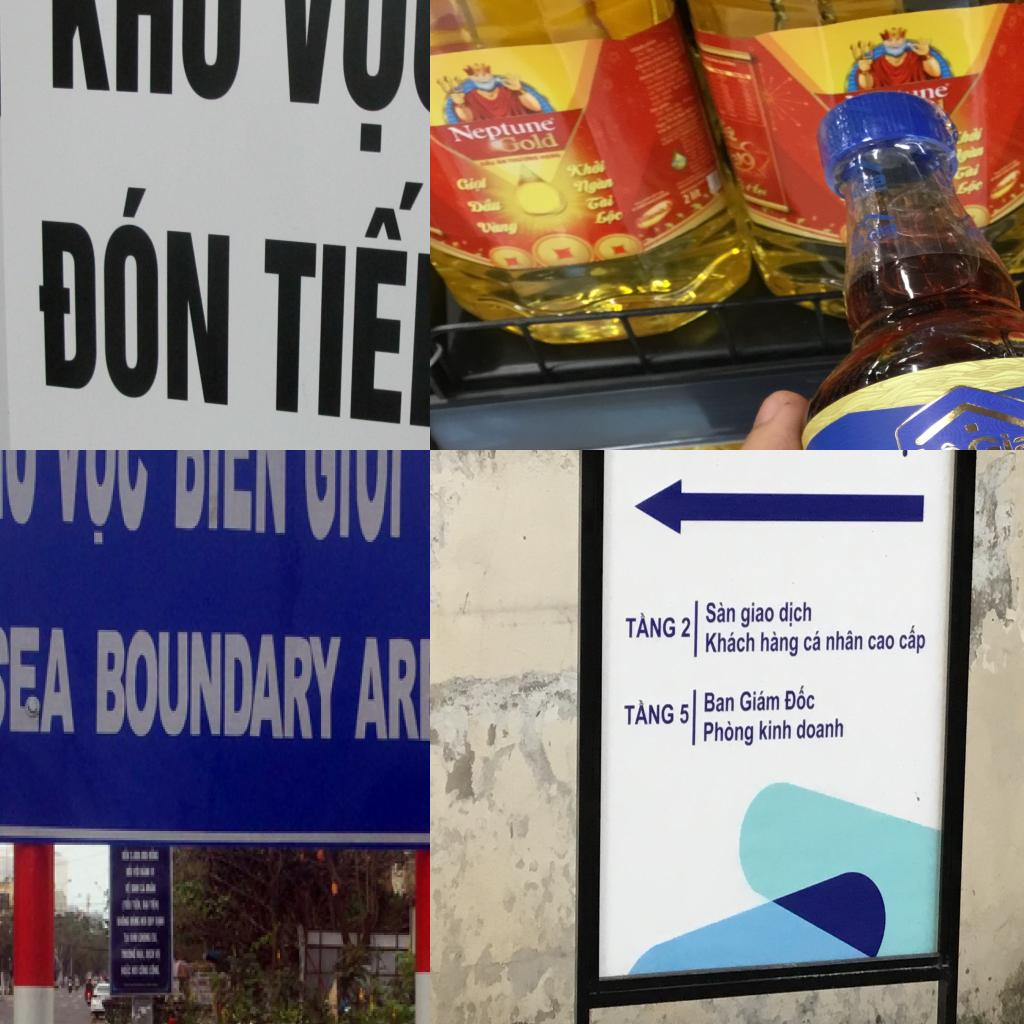text: (262, 163, 430, 433), (36, 182, 230, 408), (96, 628, 346, 743), (279, 0, 430, 166), (51, 0, 244, 102), (171, 450, 290, 542), (51, 450, 154, 555), (303, 450, 406, 544), (0, 622, 76, 736), (445, 112, 560, 144), (624, 608, 675, 640), (702, 718, 754, 748), (623, 698, 676, 726), (962, 429, 1024, 450), (760, 630, 798, 660), (704, 631, 756, 652), (570, 174, 615, 197), (739, 601, 775, 629), (739, 689, 780, 712), (778, 600, 812, 627), (563, 158, 607, 178), (899, 625, 926, 657), (785, 685, 816, 712), (589, 206, 628, 227), (826, 629, 863, 651), (704, 688, 735, 714), (704, 600, 736, 624), (464, 196, 504, 214), (476, 220, 518, 237), (454, 175, 490, 194), (758, 720, 792, 740), (915, 437, 965, 450), (582, 193, 614, 212), (954, 178, 985, 197), (867, 632, 895, 652), (952, 162, 982, 180), (958, 144, 984, 164), (744, 181, 771, 199), (802, 627, 821, 652), (958, 126, 982, 144), (681, 612, 693, 640), (678, 702, 690, 726), (680, 192, 692, 206)
